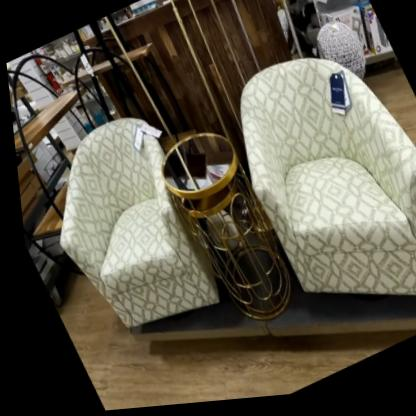Sofa: (195, 16, 416, 366), (13, 99, 234, 366)
